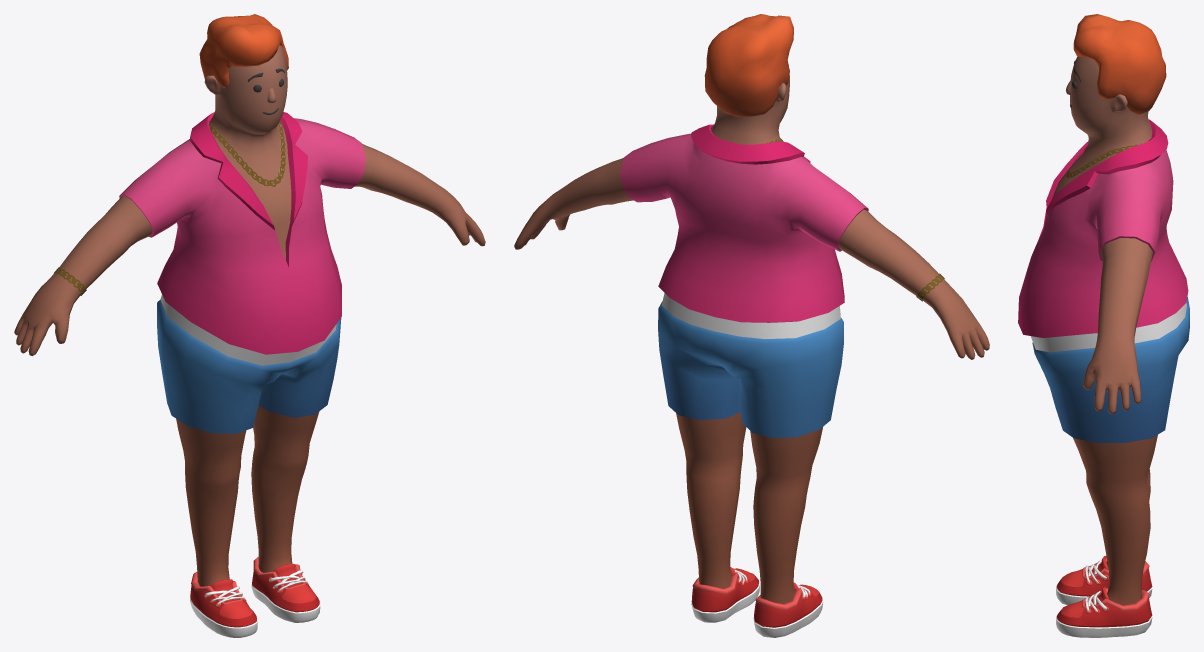
3 views of the same model, side by side, from view 1: azimuth 30°, elevation 25°; view 2: azimuth 150°, elevation 25°; view 3: azimuth 270°, elevation 25° (orthographic).
Visible parts, largest first — view 1: PlusSize_Male_Body_75, PlusSize_Male_Shirt_75, PlusSize_Male_Shorts_75, PlusSize_Male_Shoes_75, PlusSize_Male_Hairstyle_75, PlusSize_Male_Chain_75; view 2: PlusSize_Male_Shirt_75, PlusSize_Male_Body_75, PlusSize_Male_Shorts_75, PlusSize_Male_Hairstyle_75, PlusSize_Male_Shoes_75; view 3: PlusSize_Male_Body_75, PlusSize_Male_Shirt_75, PlusSize_Male_Shorts_75, PlusSize_Male_Hairstyle_75, PlusSize_Male_Shoes_75, PlusSize_Male_Chain_75.
Boxes of the visible parts, x1,y1,x2,y2 form: PlusSize_Male_Body_75: (14, 45, 485, 586); PlusSize_Male_Shirt_75: (119, 112, 365, 354); PlusSize_Male_Shorts_75: (157, 294, 341, 433); PlusSize_Male_Shoes_75: (190, 557, 320, 637); PlusSize_Male_Hairstyle_75: (199, 14, 288, 88); PlusSize_Male_Chain_75: (209, 121, 285, 187); PlusSize_Male_Shirt_75: (620, 124, 868, 322); PlusSize_Male_Body_75: (514, 61, 989, 603); PlusSize_Male_Shorts_75: (658, 293, 843, 438); PlusSize_Male_Hairstyle_75: (704, 14, 793, 117); PlusSize_Male_Shoes_75: (691, 567, 823, 637); PlusSize_Male_Body_75: (1052, 56, 1157, 605); PlusSize_Male_Shirt_75: (1018, 119, 1188, 337); PlusSize_Male_Shorts_75: (1030, 297, 1189, 442); PlusSize_Male_Hairstyle_75: (1073, 14, 1166, 114); PlusSize_Male_Shoes_75: (1056, 555, 1152, 637); PlusSize_Male_Chain_75: (1064, 137, 1151, 178).
Bounding box in the file's own units: 1.43 × 1.77 × 0.4672.
2 materials, 2 textured.
